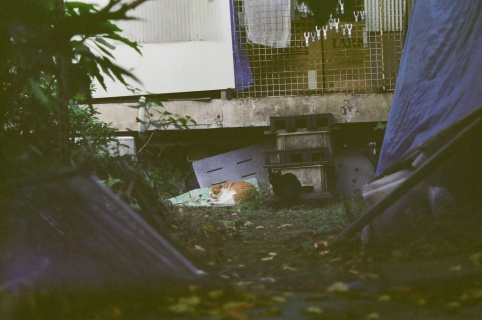Cat: (269, 169, 303, 206), (205, 181, 255, 205)
